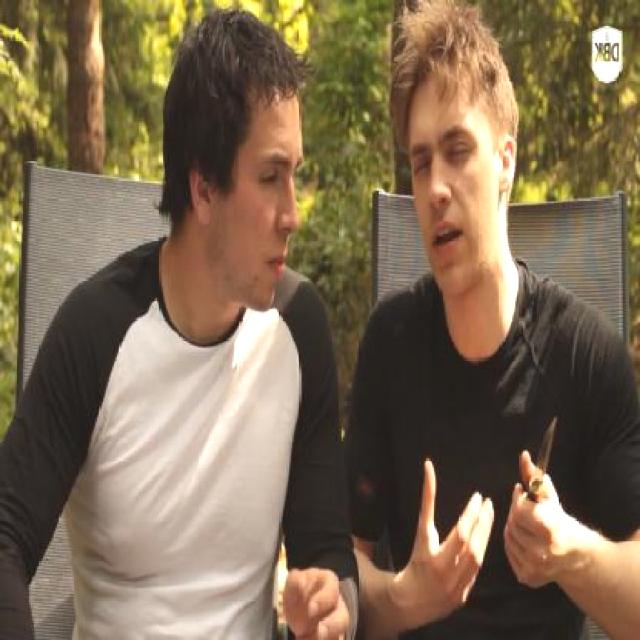knife: (498, 396, 570, 556)
